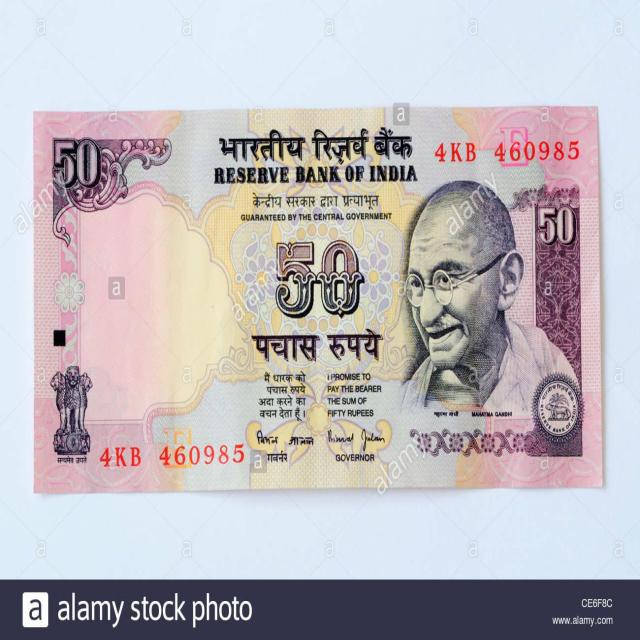50IndianRupees: (37, 110, 599, 487)
